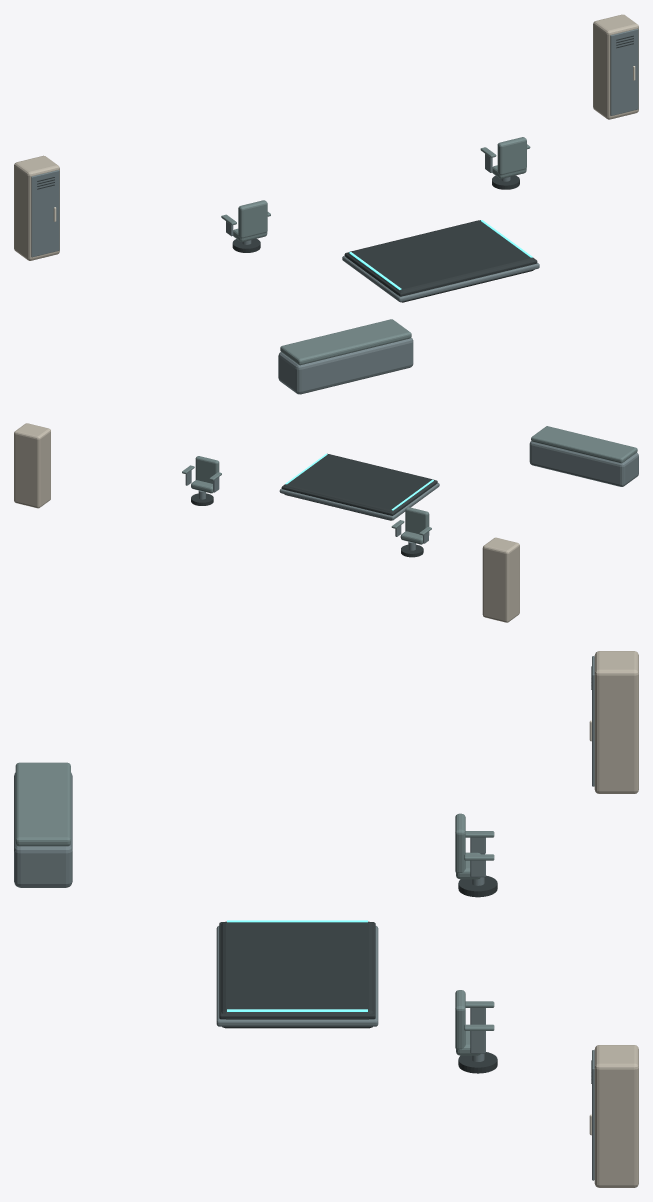
Rendered from review-interior.glb.
The picture shows the model from 3 angles, top to bottom: view 1: azimuth 30°, elevation 25°; view 2: azimuth 150°, elevation 25°; view 3: azimuth 270°, elevation 25°; orthographic projection. The views are drawn at different scales.
Parts seen in each view (by area): view 1: Furniture_Steel, Furniture_Graphite, Furniture_Fabric, Furniture_Ivory; view 2: Furniture_Ivory, Furniture_Graphite, Furniture_Steel, Furniture_Fabric; view 3: Furniture_Graphite, Furniture_Ivory, Furniture_Fabric, Furniture_Steel, Furniture_Accent.
Boxes of the visible parts, box(x1,y1,x2,y2) form: Furniture_Steel: box(31, 28, 638, 394); Furniture_Graphite: box(37, 35, 633, 302); Furniture_Fabric: box(221, 137, 530, 365); Furniture_Ivory: box(14, 14, 638, 260); Furniture_Ivory: box(14, 423, 519, 622); Furniture_Graphite: box(191, 453, 437, 557); Furniture_Steel: box(185, 441, 638, 550); Furniture_Fabric: box(182, 426, 637, 544); Furniture_Graphite: box(219, 666, 591, 1083); Furniture_Ivory: box(594, 651, 638, 1187); Furniture_Fabric: box(15, 762, 494, 1055); Furniture_Steel: box(14, 656, 594, 1180); Furniture_Accent: box(227, 920, 367, 1011).
Bounding box in the file's own units: 15.1 × 2.14 × 9.59.
